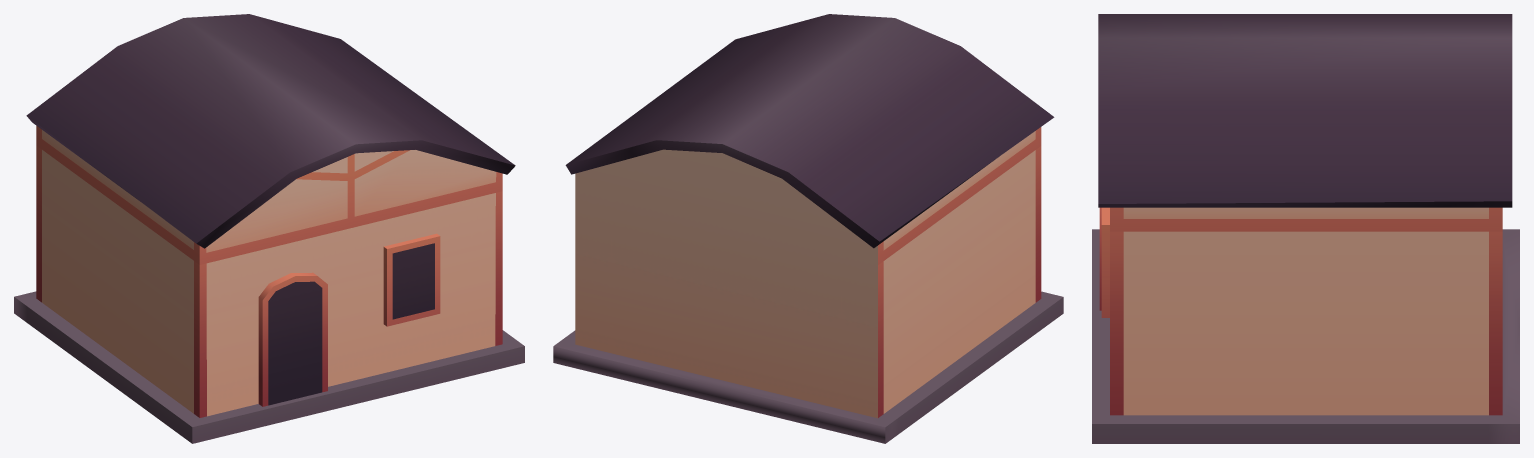
Rendered from Mdl_Storage.fbx.
3 renders of one model, left to right at view 1: azimuth 30°, elevation 25°; view 2: azimuth 150°, elevation 25°; view 3: azimuth 270°, elevation 25°, orthographic. The views are drawn at different scales.
Parts seen in each view (by area): view 1: Storage; view 2: Storage; view 3: Storage.
Part boxes in pixels (x1,y1,x2,y2): Storage: (14, 14, 524, 443); Storage: (553, 14, 1063, 443); Storage: (1092, 14, 1519, 443).
Bounding box in the file's own units: 564 × 417 × 524.
